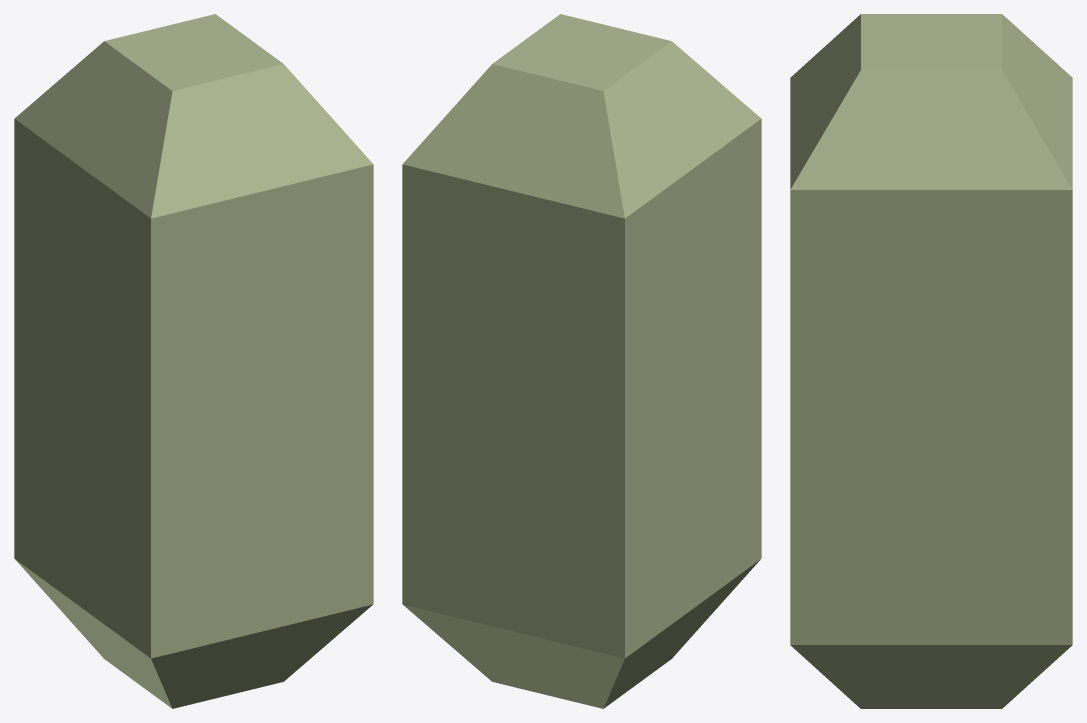
File: Bandit4UpperArm.fbx
3 views of the same model, side by side, from view 1: azimuth 30°, elevation 25°; view 2: azimuth 150°, elevation 25°; view 3: azimuth 270°, elevation 25° (orthographic). The views are drawn at different scales.
Parts seen in each view (by area): view 1: Bandit4UpperArm; view 2: Bandit4UpperArm; view 3: Bandit4UpperArm.
Boxes of the visible parts, box(x1,y1,x2,y2) form: Bandit4UpperArm: box(14, 14, 373, 708); Bandit4UpperArm: box(402, 14, 761, 708); Bandit4UpperArm: box(790, 14, 1072, 708).
Size of the model in its own units: 0.1568 by 0.4161 by 0.1668.
